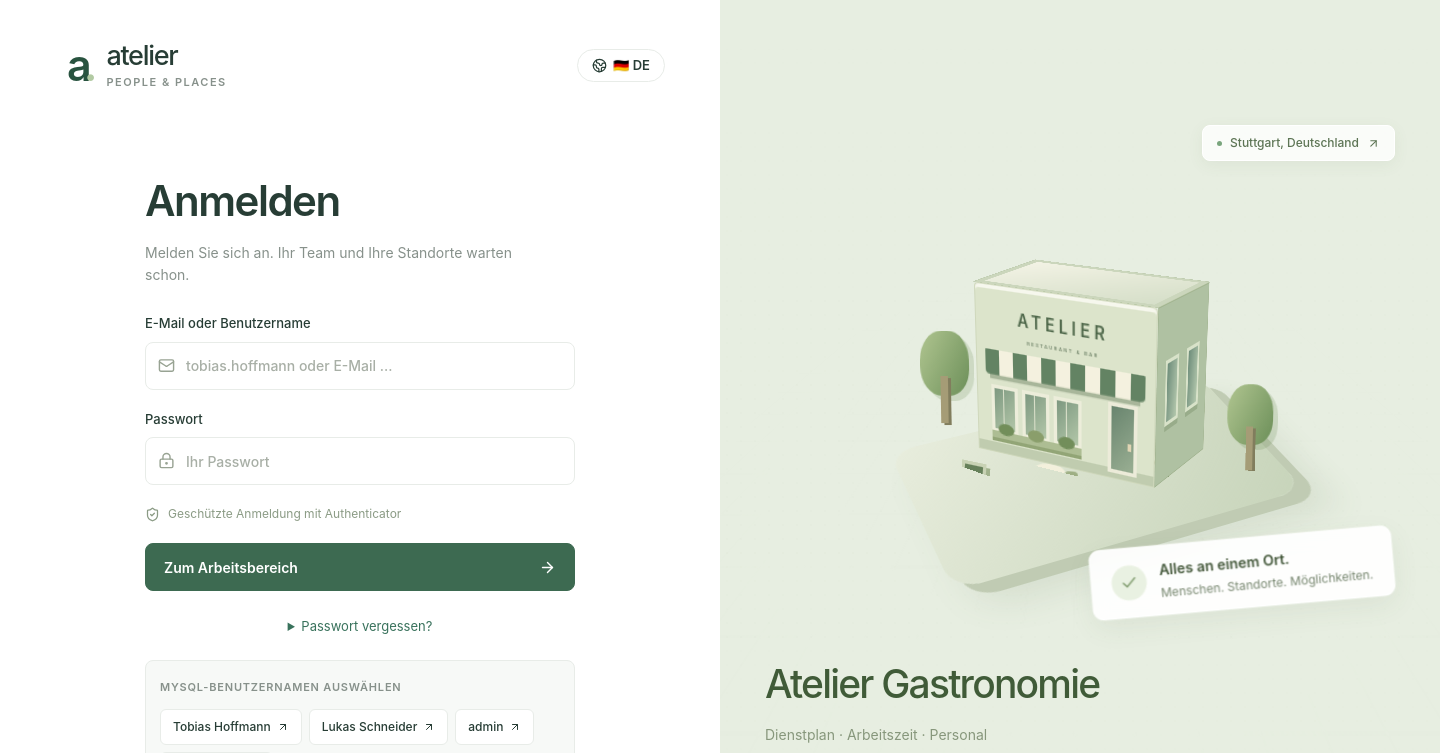
F00 authentication › does not authenticate after a rejected password
Type "a@b.de" into the field labelled "E-Mail oder Benutzername" at (360,366), box x1=145 y1=342 x2=575 y2=390
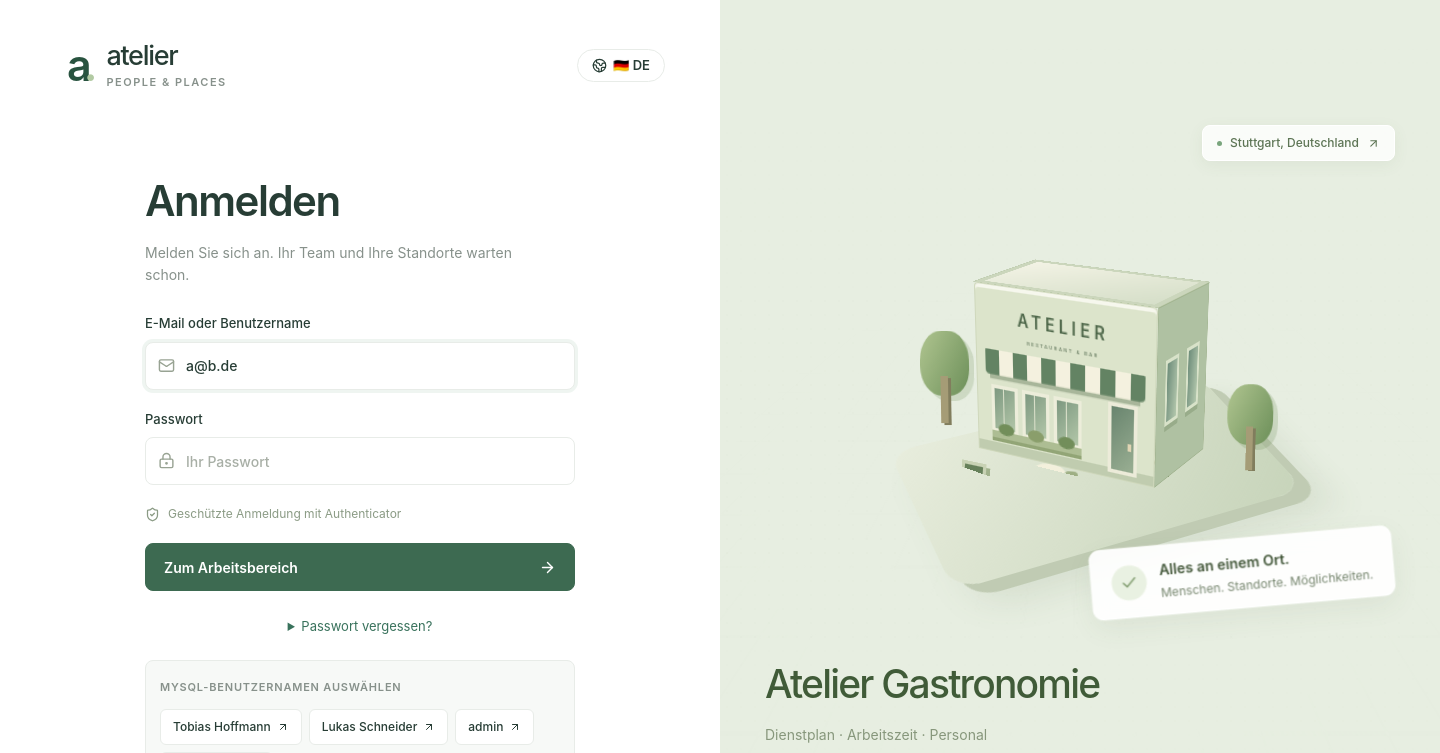
Type "invalid" into the password field labelled "Passwort" at (360,462), box x1=145 y1=438 x2=575 y2=486
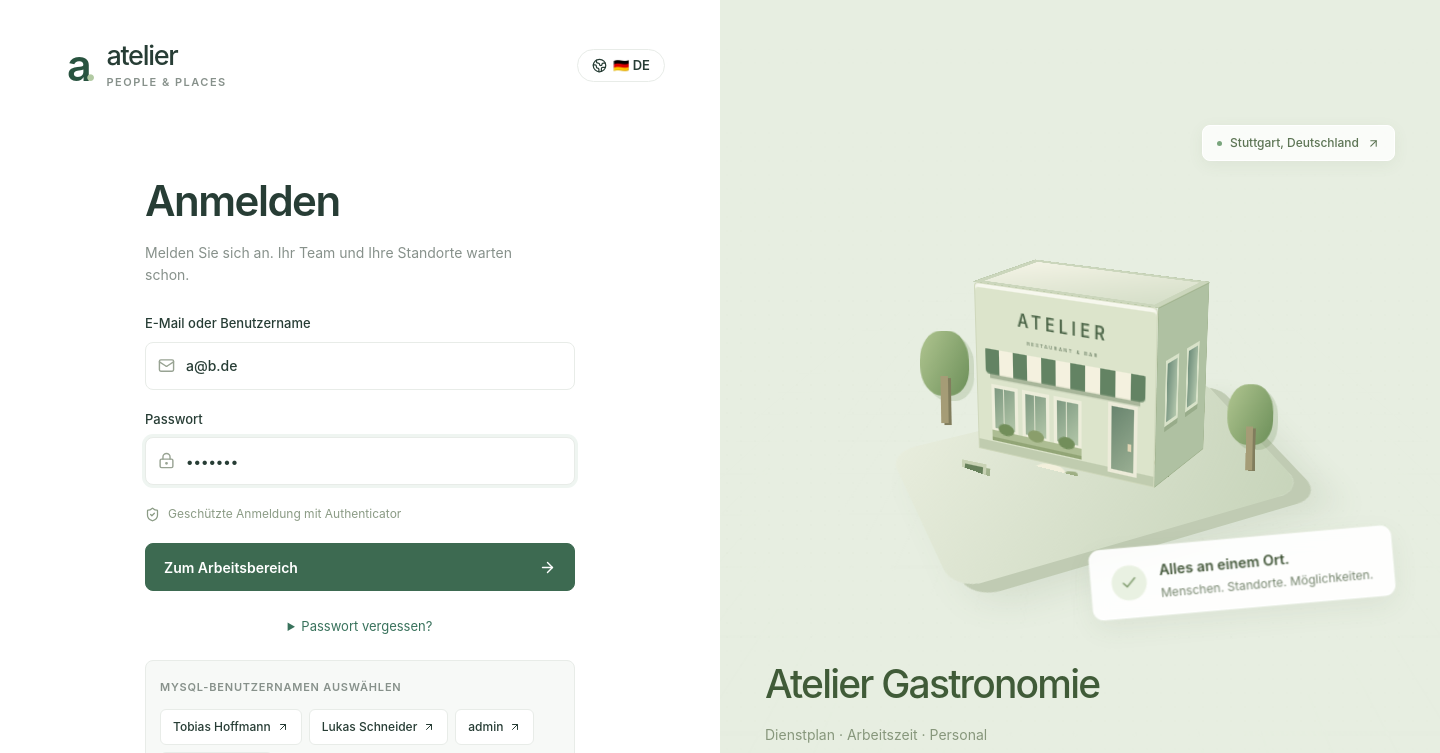
Click the button "Zum Arbeitsbereich" at (231,567), box x1=145 y1=544 x2=575 y2=592
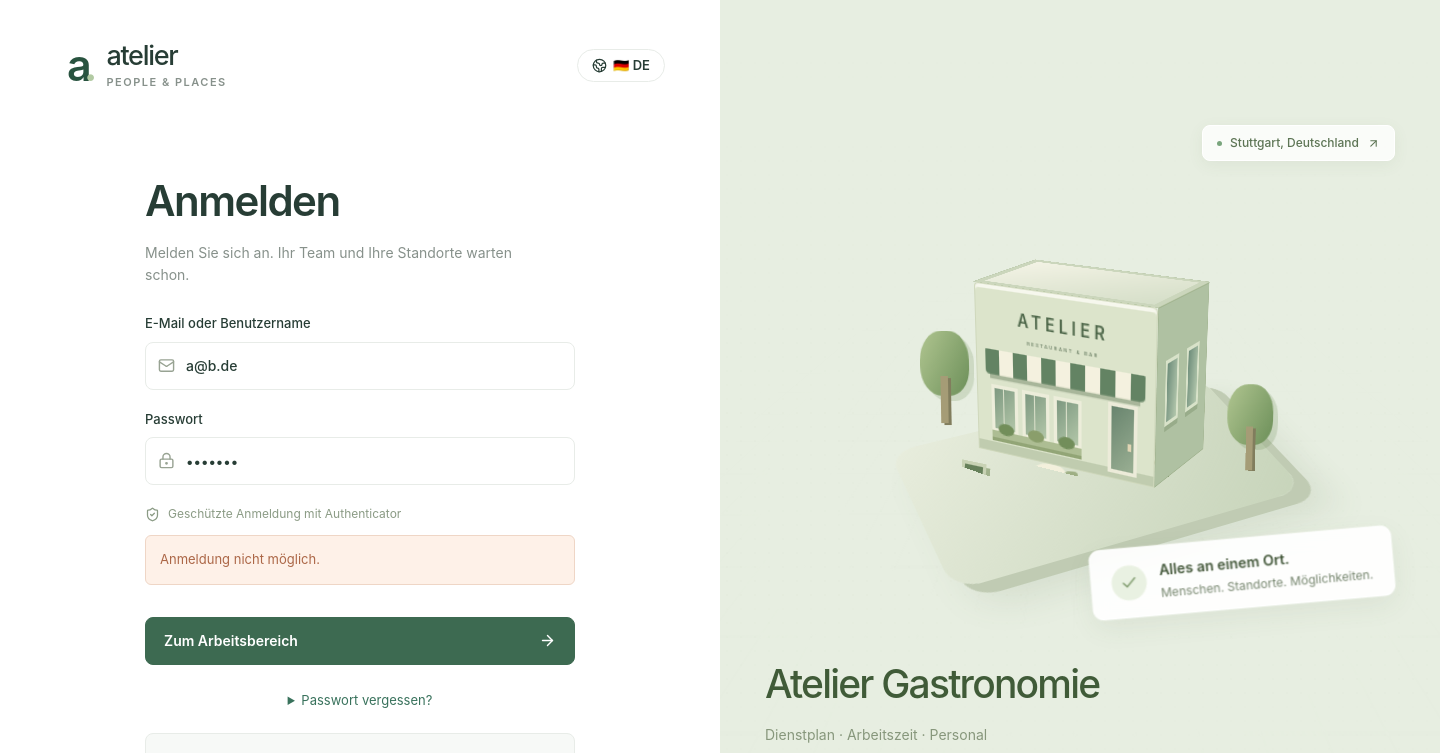
Check: the message shows "Anmeldung nicht möglich", box x1=160 y1=552 x2=320 y2=568
